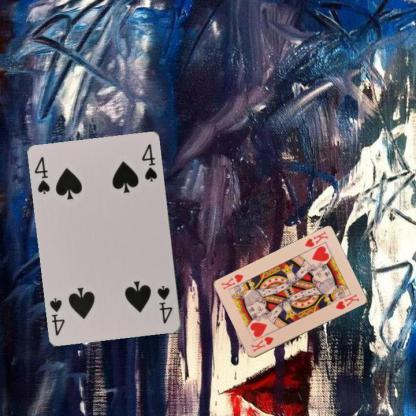4s: (155, 283, 174, 325), (32, 154, 51, 196)
Kh: (302, 228, 330, 249), (248, 334, 275, 354)
